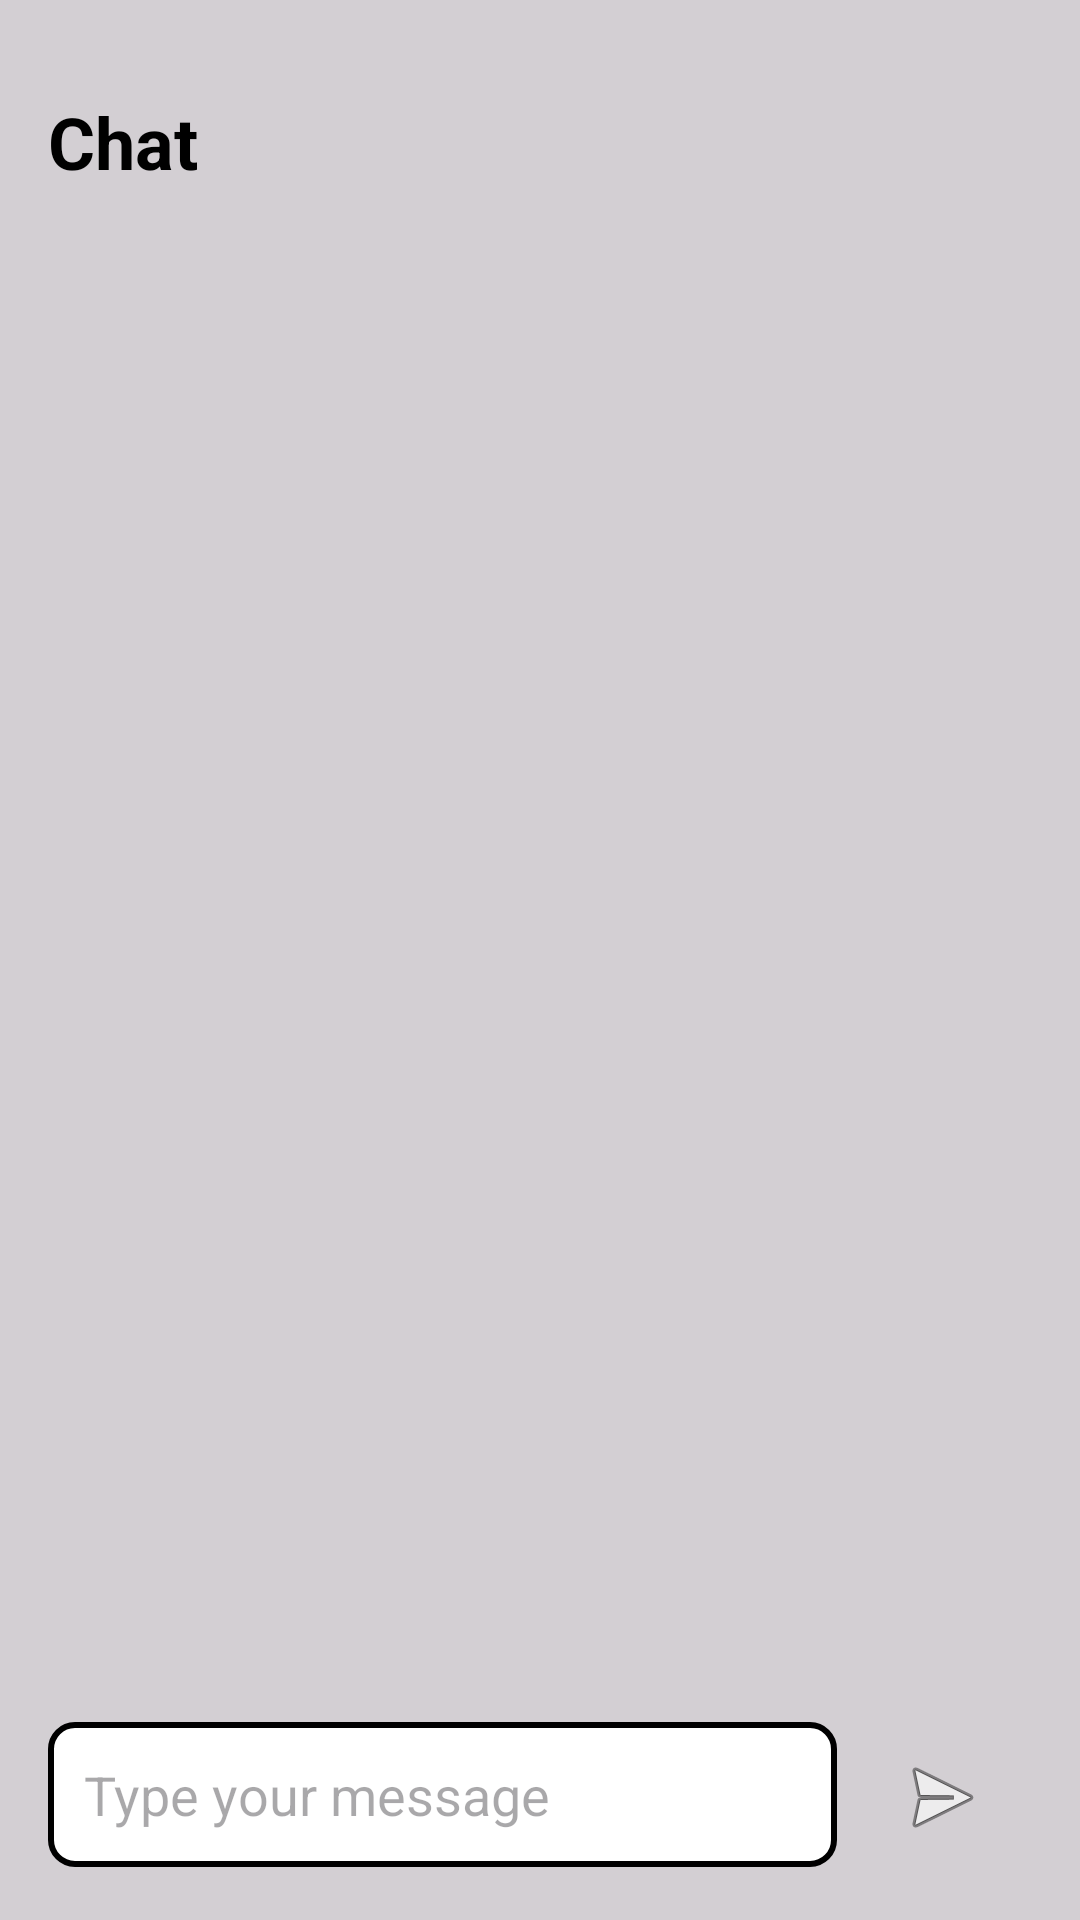

Icons on this 1080 × 1920 Android screen, each with the point to tap as (x,y):
Send: (943,1797)
